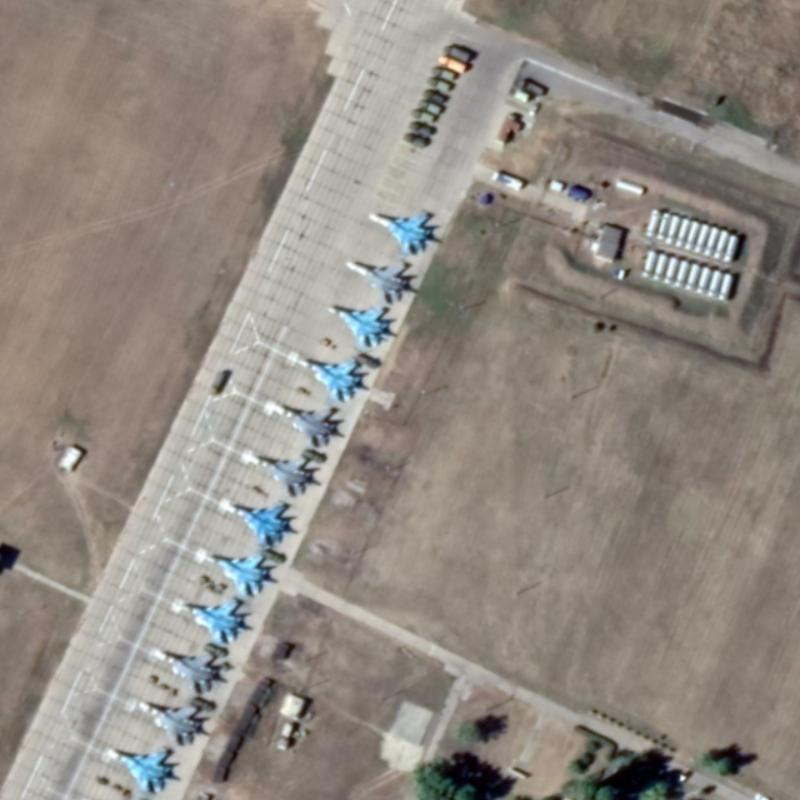A19: (215, 498, 300, 549), (100, 742, 178, 795), (341, 254, 417, 308), (170, 594, 249, 645), (293, 352, 370, 404), (266, 397, 343, 448), (131, 696, 209, 746), (197, 548, 274, 596), (149, 642, 220, 694), (241, 451, 321, 497), (365, 206, 436, 256), (324, 300, 395, 348)
